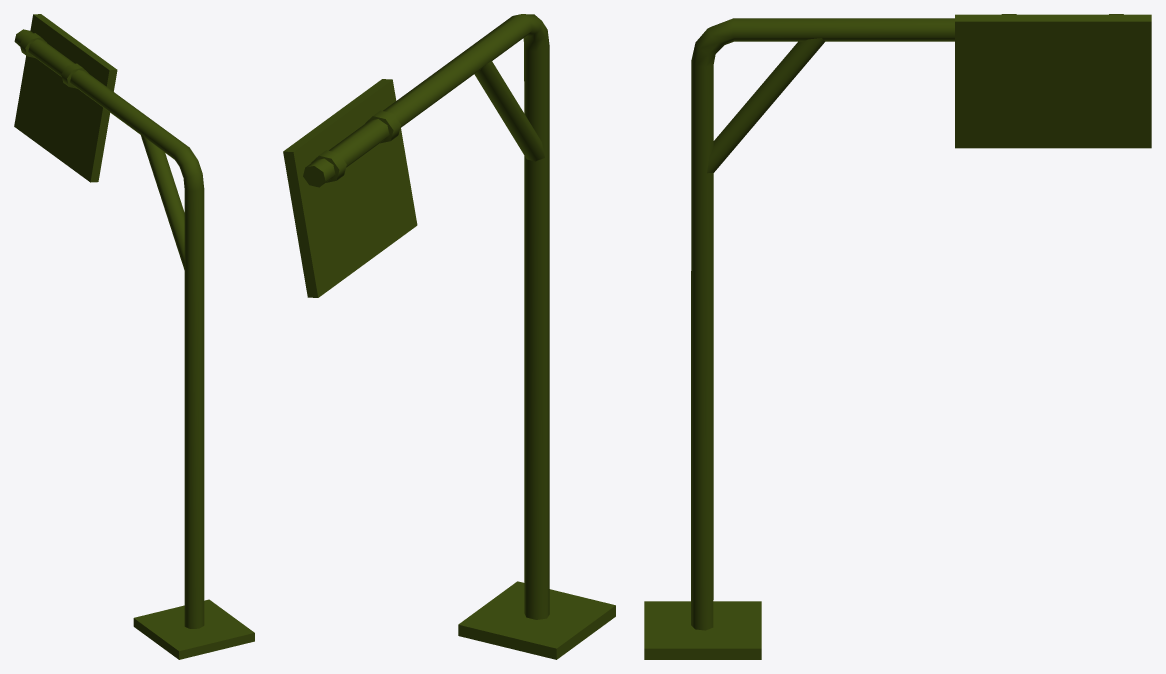
The model's file is T2_Lights03_M.fbx.
3 views of the same model, side by side, from view 1: azimuth 30°, elevation 25°; view 2: azimuth 150°, elevation 25°; view 3: azimuth 270°, elevation 25° (orthographic). The views are drawn at different scales.
Parts seen in each view (by area): view 1: T2_Lights03; view 2: T2_Lights03; view 3: T2_Lights03, T2_Lights03_L1.
Boxes of the visible parts, x1,y1,x2,y2 form: T2_Lights03: [14, 14, 254, 659]; T2_Lights03: [283, 14, 615, 659]; T2_Lights03: [644, 14, 1151, 659]; T2_Lights03_L1: [980, 42, 1125, 128].
Bounding box in the file's own units: 0.2991 × 1.86 × 1.35.
